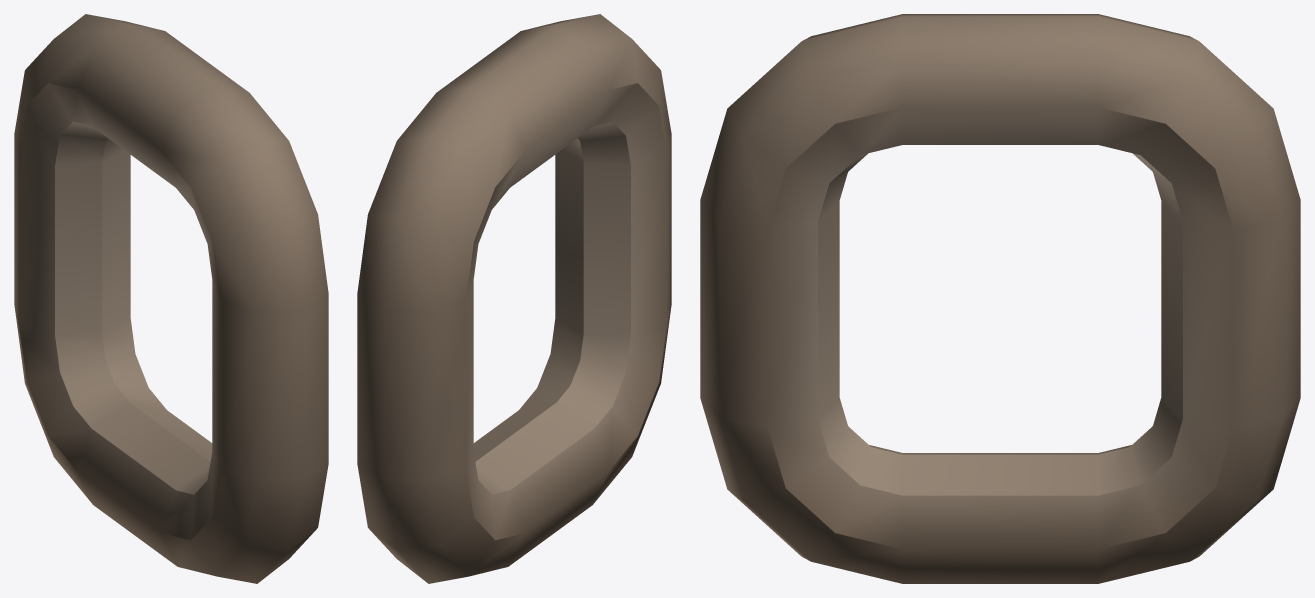
The model's file is lantern_handle.glb.
3 renders of one model, left to right at view 1: azimuth 30°, elevation 25°; view 2: azimuth 150°, elevation 25°; view 3: azimuth 270°, elevation 25°, orthographic. The views are drawn at different scales.
Visible parts, largest first — view 1: lantern_handle; view 2: lantern_handle; view 3: lantern_handle.
Part boxes in pixels (left/top/right/bottom): lantern_handle: left=14, top=14, right=328, bottom=583; lantern_handle: left=357, top=14, right=671, bottom=583; lantern_handle: left=700, top=14, right=1300, bottom=583.
Bounding box in the file's own units: 0.057 × 0.2546 × 0.2456.
Materials: 1 (1 with a texture image).
